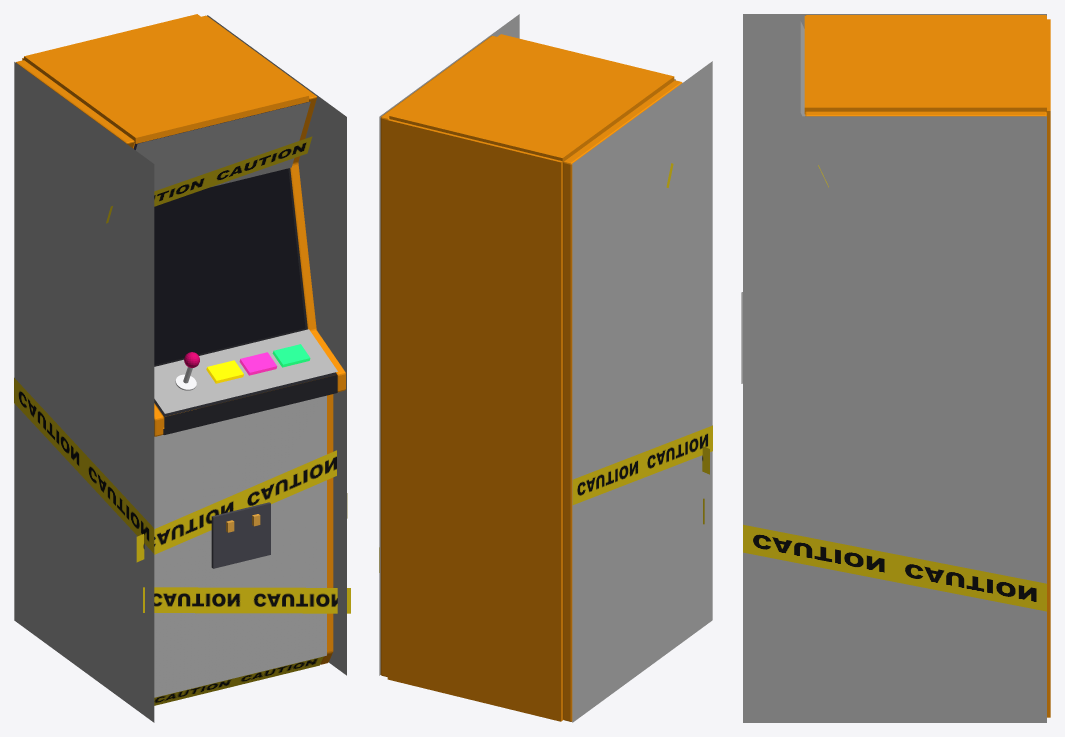
The model's file is pinocab.glb.
The picture shows the model from 3 angles, left to right: view 1: azimuth 30°, elevation 25°; view 2: azimuth 150°, elevation 25°; view 3: azimuth 270°, elevation 25°; orthographic projection. The views are drawn at different scales.
Visible parts, largest first — view 1: art_side_l, art_front, monitor, lid, art_side_r, art_marquee, art_deck, haz_front_b, side_r, haz_front_a, haz_side_l, deck_lip (+9 smaller); view 2: back, art_side_l, lid, side_l, side_r, haz_side_l, art_side_r; view 3: art_side_r, lid, haz_side_r, art_side_l, back, side_r.
Part boxes in pixels (box(x1,y1,x2,y2)): art_side_l: box(14, 62, 154, 722); art_front: box(154, 395, 326, 697); monitor: box(154, 168, 305, 364); lid: box(24, 14, 308, 143); art_side_r: box(207, 15, 346, 675); art_marquee: box(135, 101, 310, 191); art_deck: box(154, 329, 337, 413); haz_front_b: box(143, 587, 350, 613); side_r: box(199, 15, 345, 664); haz_front_a: box(136, 450, 336, 562); haz_side_l: box(14, 378, 153, 553); deck_lip: box(164, 375, 337, 434); back: box(387, 119, 563, 721); art_side_l: box(572, 61, 712, 722); lid: box(389, 34, 674, 163); side_l: box(563, 80, 682, 721); side_r: box(380, 36, 496, 676); haz_side_l: box(572, 425, 712, 504); art_side_r: box(379, 14, 519, 675); art_side_r: box(743, 116, 1046, 722); lid: box(804, 16, 1046, 113); haz_side_r: box(743, 524, 1046, 611); art_side_l: box(743, 14, 1046, 116); back: box(1046, 19, 1050, 717); side_r: box(805, 111, 1046, 116).
Size of the model in its own units: 0.74 by 1.86 by 0.8548.
16 materials, 1 textured.
